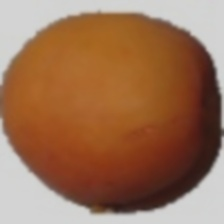apricot: (20, 49, 166, 196)
